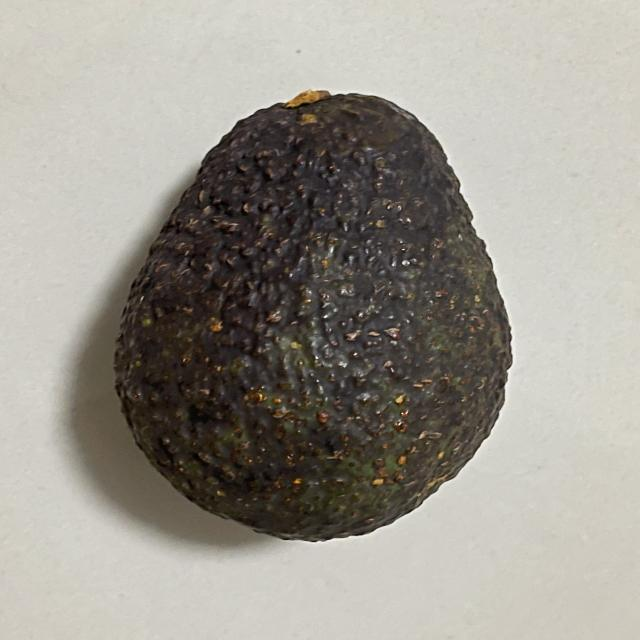Level2: (106, 79, 520, 548)
